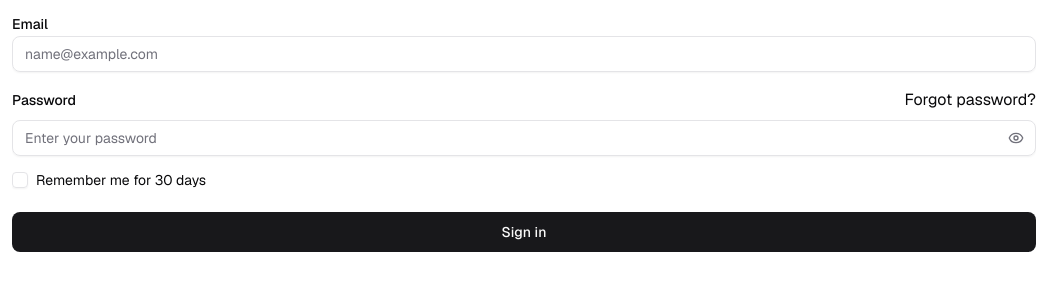
Scenario: LoginFormModern › Form Validation › should show error when password is empty
Type "test@example.com" into the field labelled "Email". click: coordinates (524, 54)
box: [12,36,1036,72]
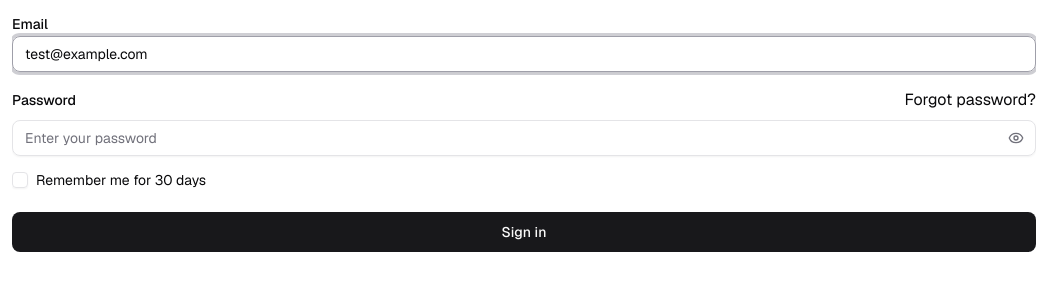
Click the button "Sign in". click: coordinates (524, 232)
box: [12,212,1036,252]
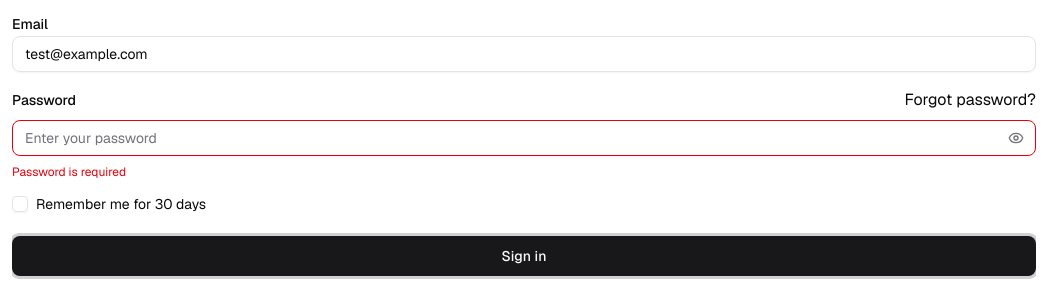
Check: the text "Password is required" is shown, box [12,164,126,180]
